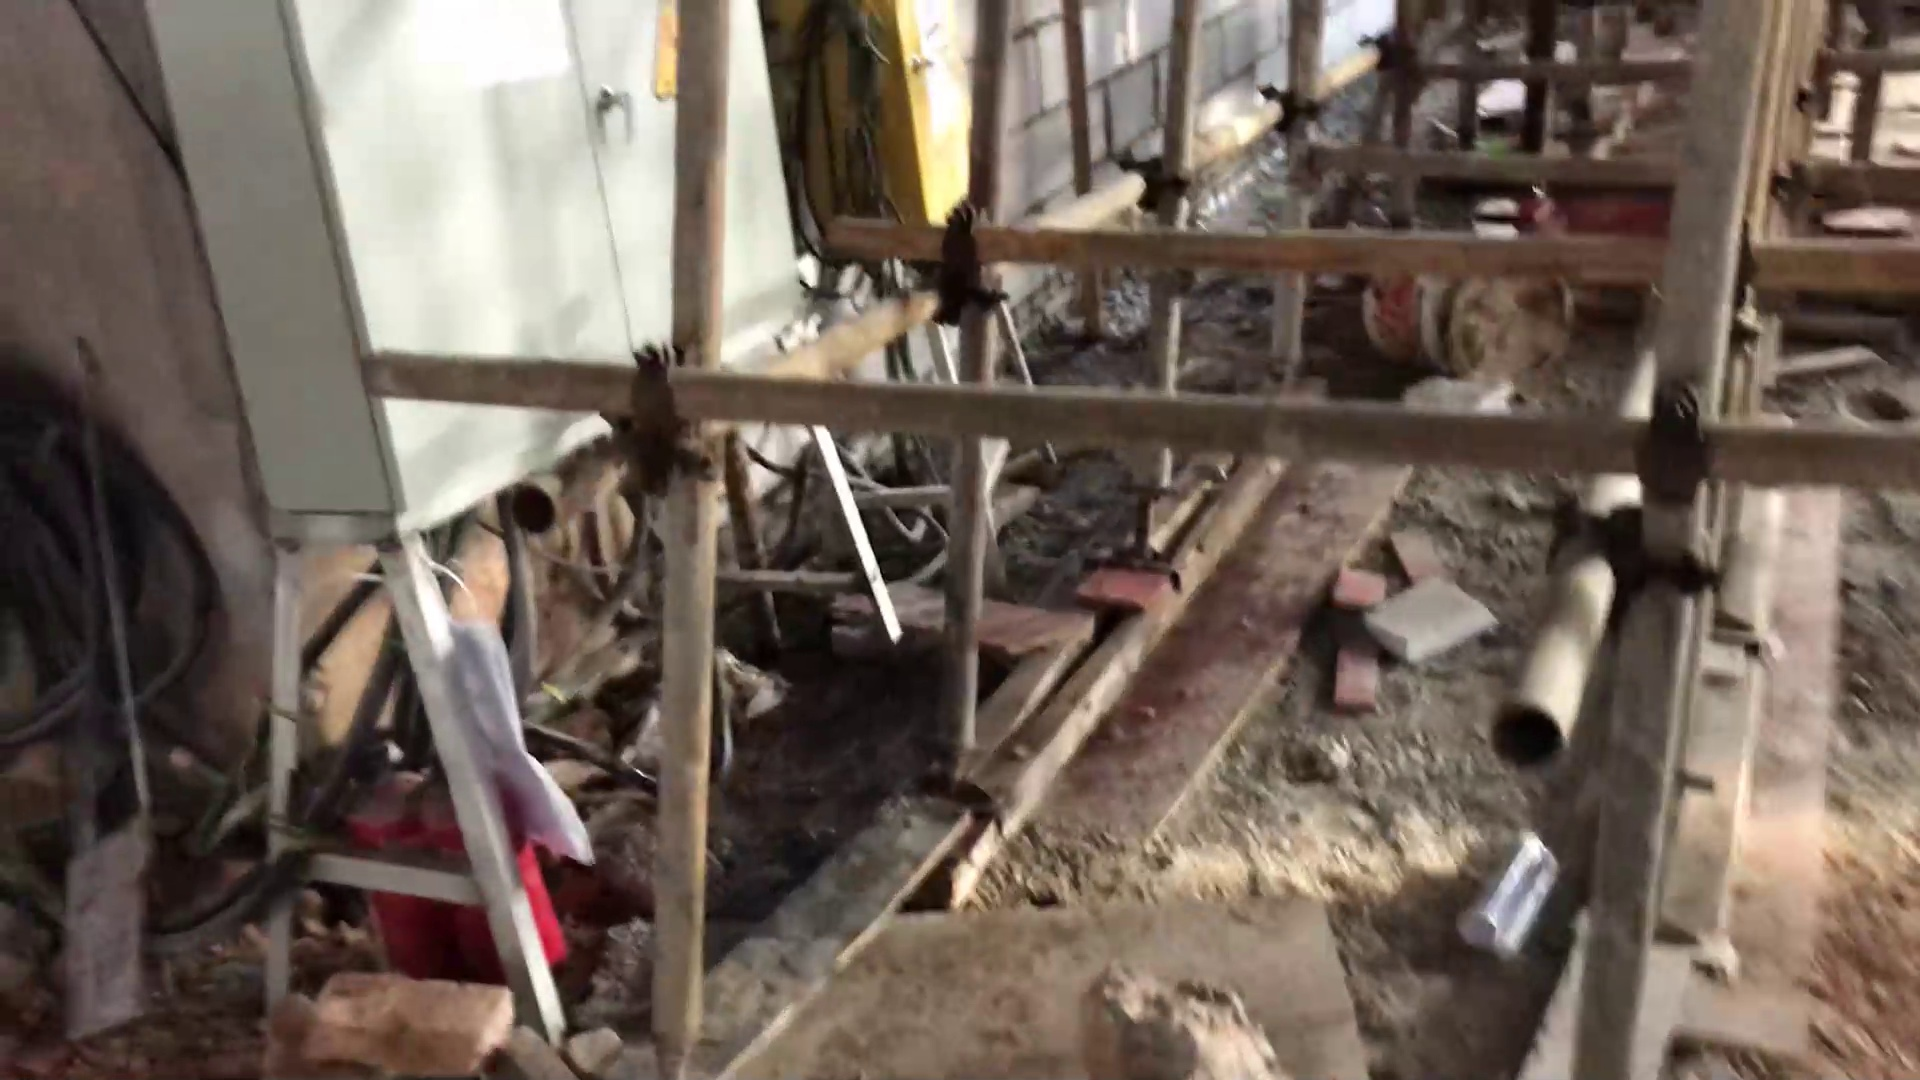ebox: (131, 1, 822, 534), (781, 1, 980, 228)
